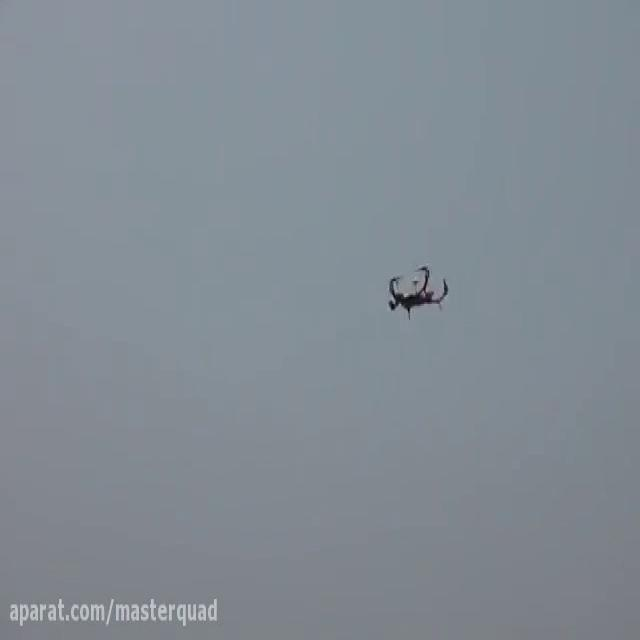drone: (385, 256, 452, 325)
